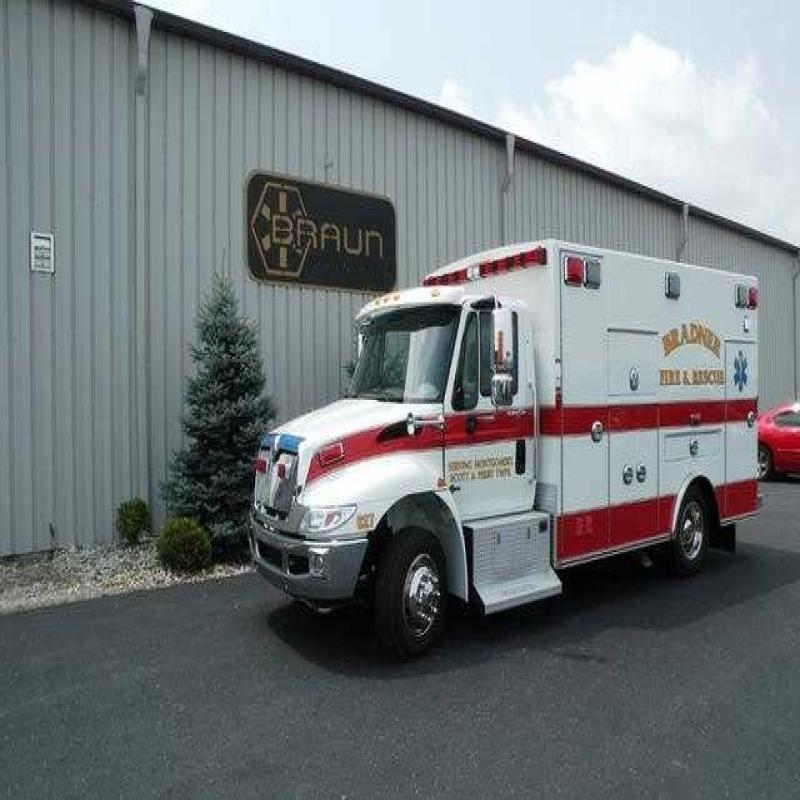AmbulanceSiren: (417, 232, 551, 299)
